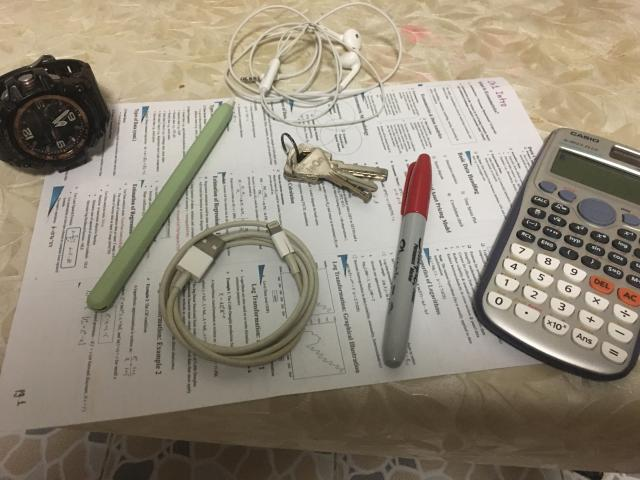Keys: (281, 132, 388, 201)
Pen: (382, 154, 431, 368)
Watch: (0, 55, 110, 170)
paper: (0, 77, 640, 434)
wire: (159, 220, 319, 368), (225, 1, 402, 128)
